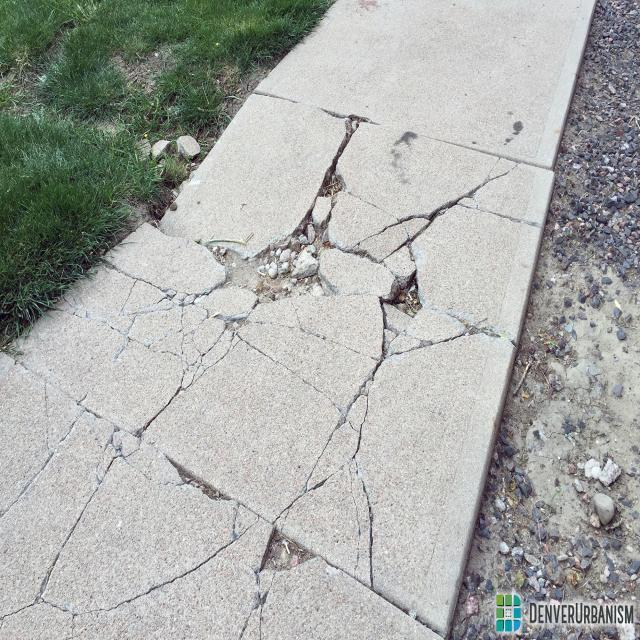hole: (213, 178, 347, 305), (248, 490, 331, 588), (373, 246, 438, 354), (160, 437, 240, 519), (322, 95, 386, 168)
